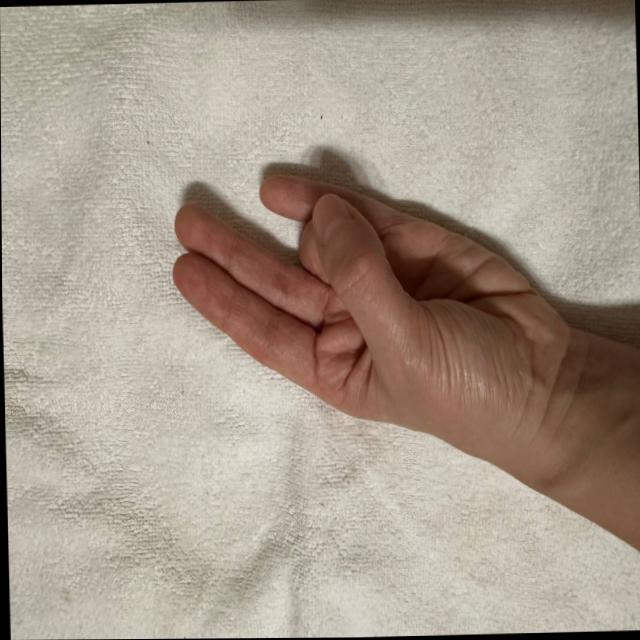n: (141, 137, 549, 478)
